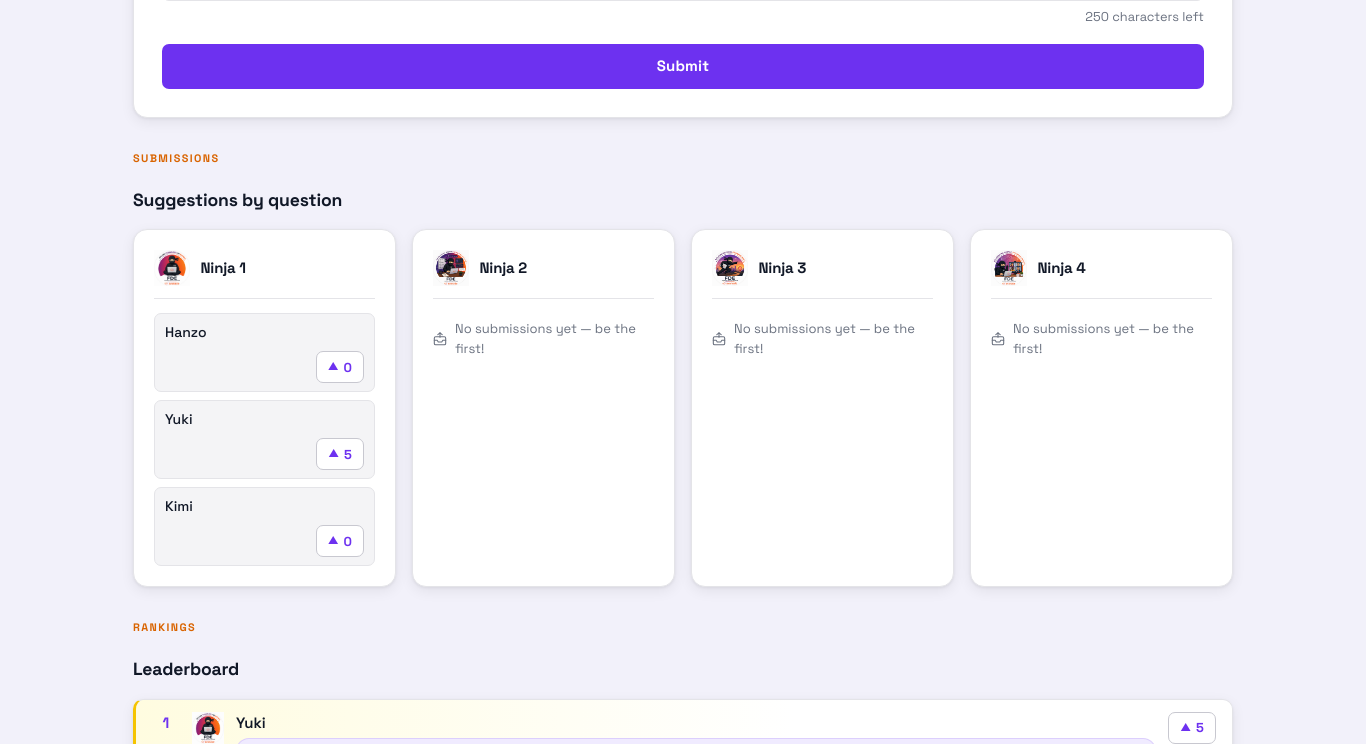
Test: vote targeting › sorting and re-rendering do not affect vote targeting
(page scrolled)
Step 1. Click the button named "vote for hanzo" → [340, 367], box left=316, top=351, right=364, bottom=383
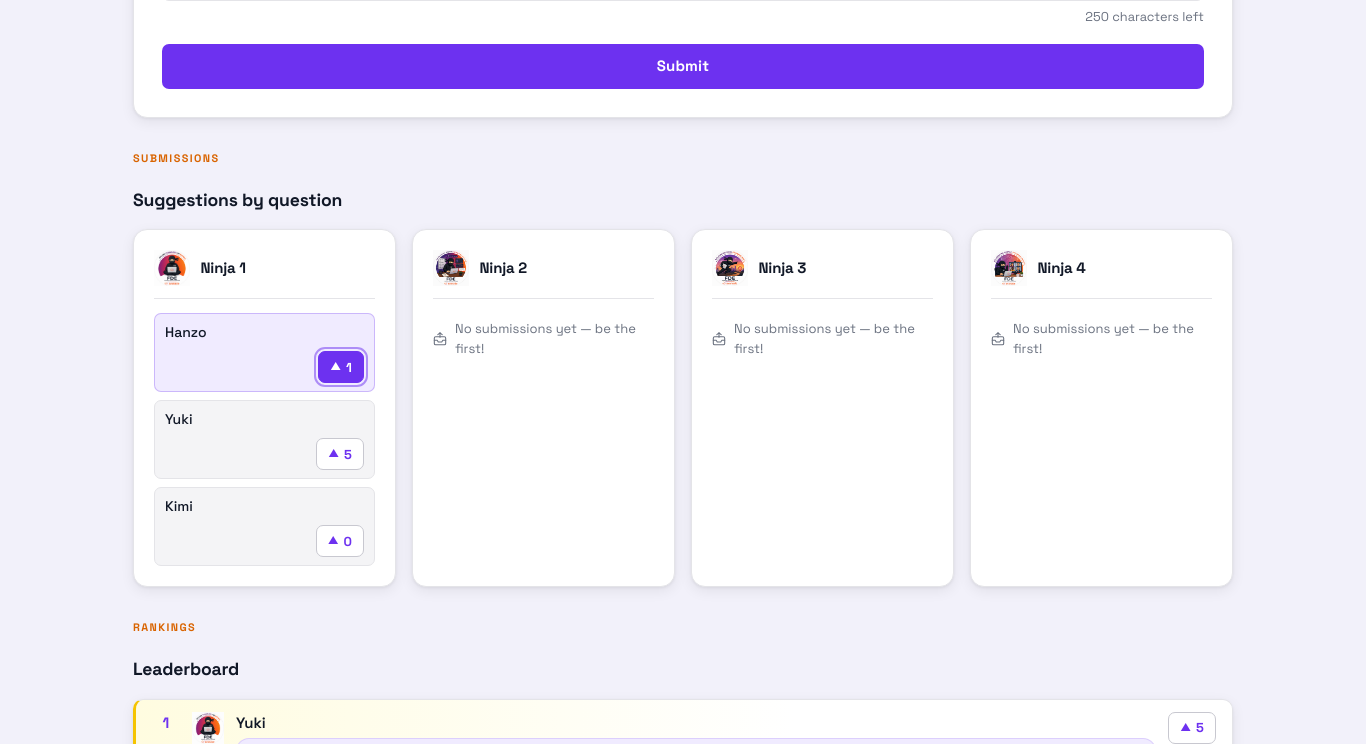
Expected: the button named "remove vote for hanzo" is shown, left=318, top=351, right=364, bottom=383
